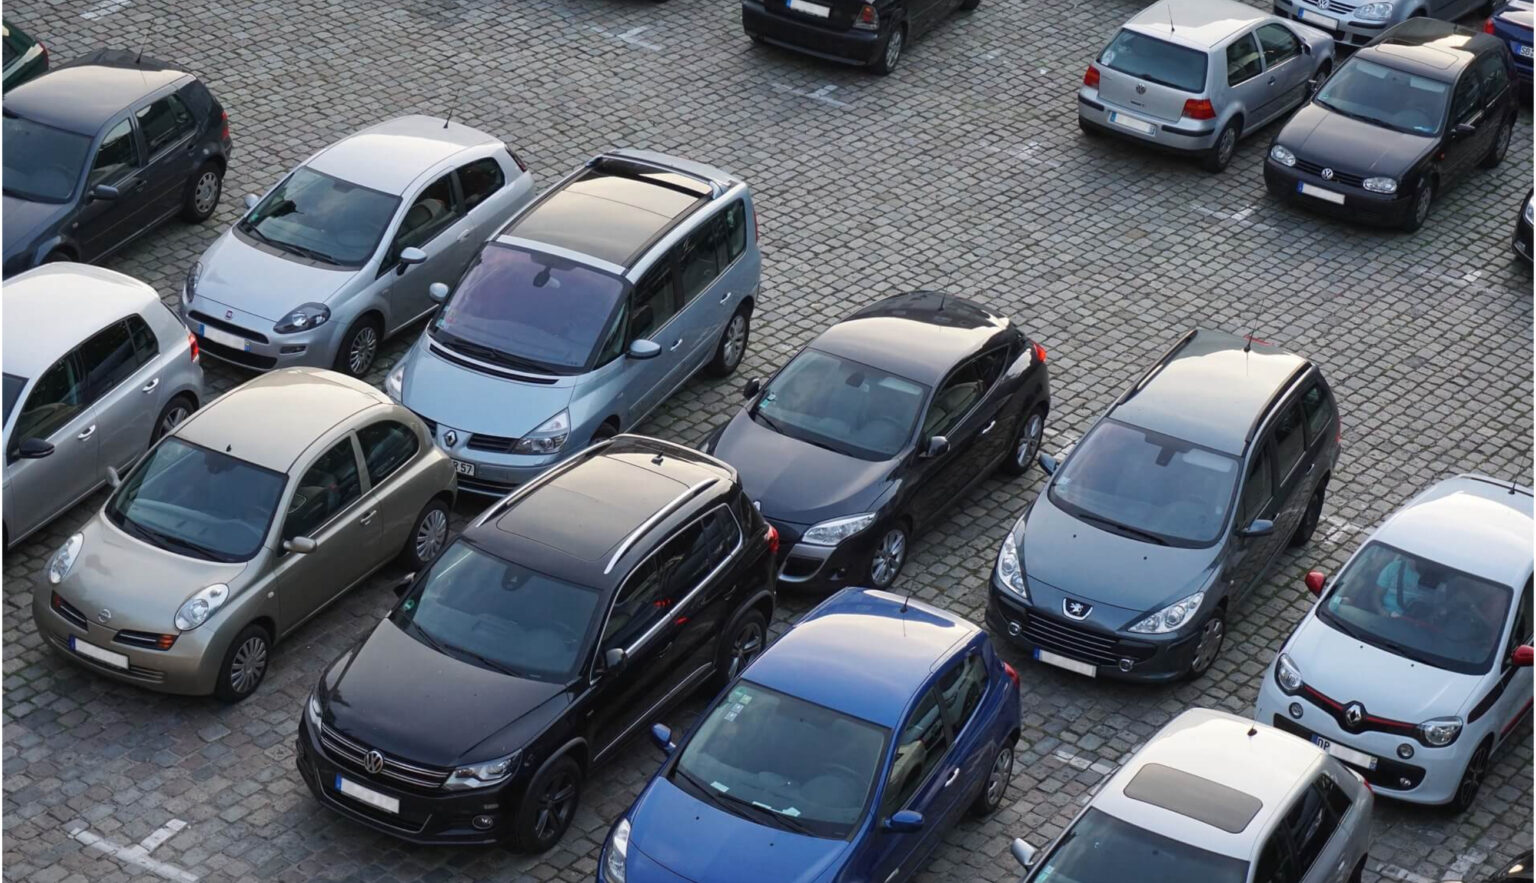Car: (295, 434, 780, 855), (33, 368, 456, 702), (384, 149, 761, 494), (594, 589, 1022, 883), (987, 329, 1341, 682), (700, 291, 1052, 589), (1253, 474, 1532, 812), (181, 115, 535, 377), (1012, 708, 1374, 883), (4, 263, 204, 548), (1263, 18, 1518, 232), (3, 50, 232, 279), (1078, 0, 1335, 171), (741, 0, 981, 75), (1273, 0, 1496, 49), (1484, 0, 1534, 103), (3, 18, 51, 93), (1511, 189, 1536, 266)
